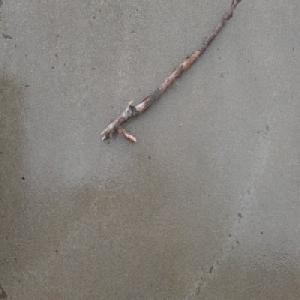Wood: (99, 0, 242, 144)
